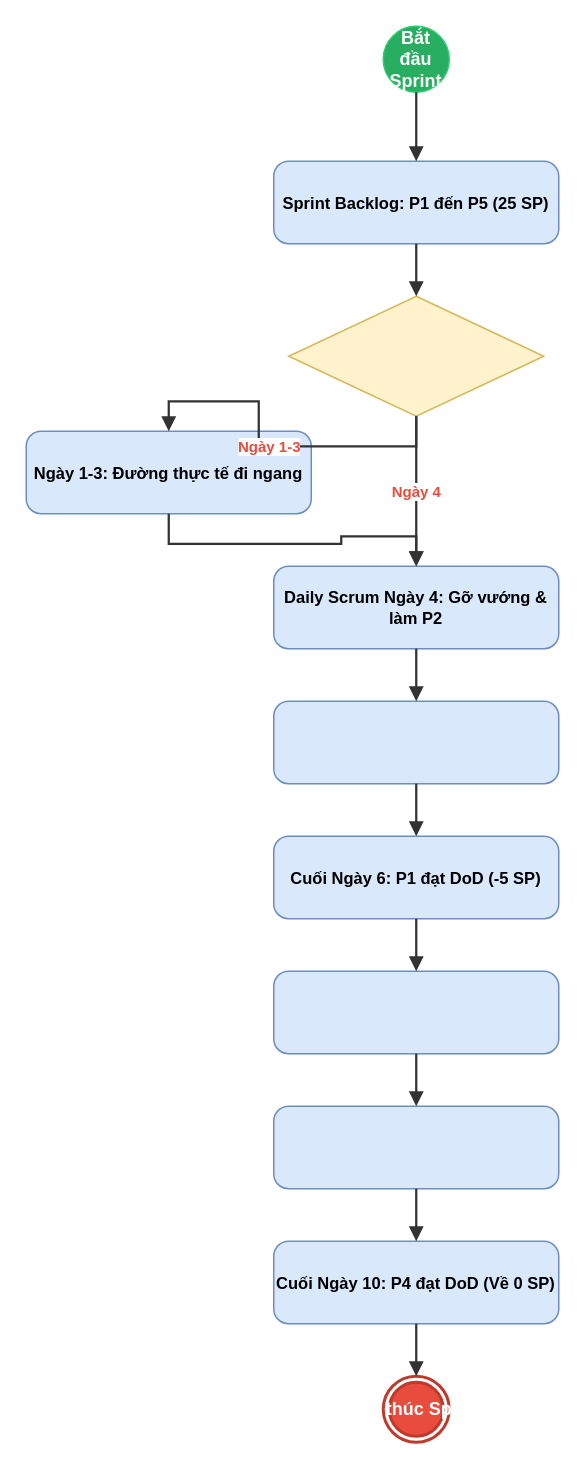
Image size: 585x1470. Some labels were removed from this diagram. Each missing label, with the centre of its shape:
"Cuối Ngày 4: P2 đạt DoD (-5 SP)" goes at (x=415, y=742).
"Cuối Ngày 7: P5 đạt DoD (-2 SP)" goes at (x=415, y=1012).
"Cuối Ngày 9: P3 đạt DoD (-8 SP)" goes at (x=415, y=1147).
"Gặp sự cố OTP ngân hàng" goes at (x=415, y=355).
